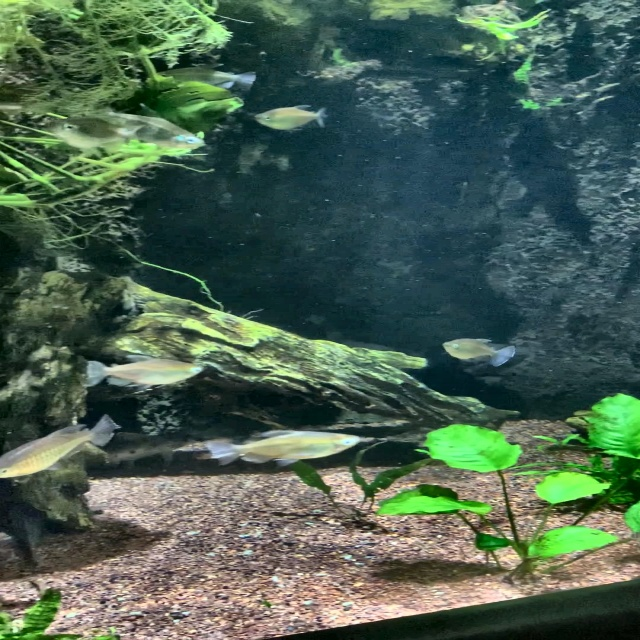fish: (1, 413, 123, 481), (200, 426, 361, 472), (78, 106, 204, 154), (136, 60, 265, 97), (81, 355, 209, 391), (37, 109, 123, 151), (441, 335, 519, 366), (252, 103, 334, 132)
